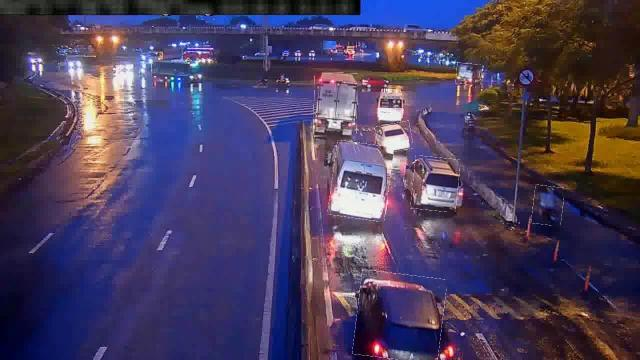Bike: (532, 185, 564, 225)
Bus: (330, 142, 392, 220)
Car: (355, 272, 445, 360), (412, 156, 460, 211), (376, 122, 412, 152)
Truck: (314, 73, 358, 137), (456, 63, 482, 84)
